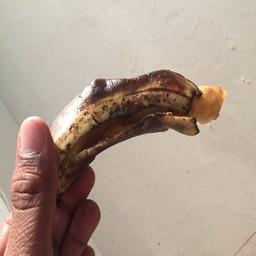Bad_banana: (42, 66, 225, 195)
